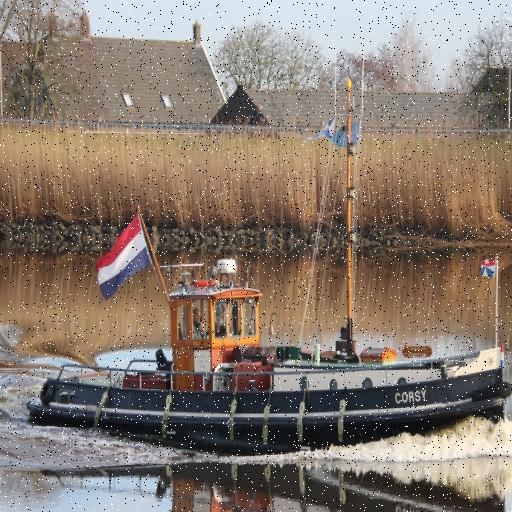tugboat: (22, 257, 512, 470)
